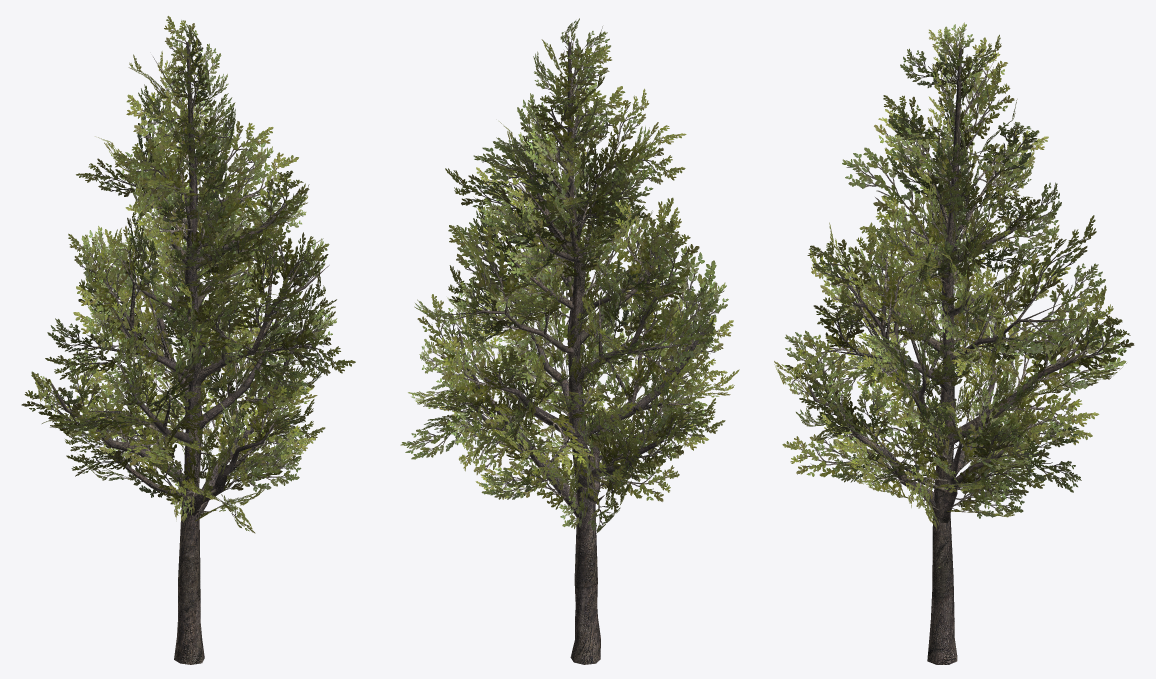
The picture shows the model from 3 angles, left to right: view 1: azimuth 30°, elevation 25°; view 2: azimuth 150°, elevation 25°; view 3: azimuth 270°, elevation 25°; orthographic projection.
Parts seen in each view (by area): view 1: COM_Nature_TreeA_MotionGreenTree01_SM01; view 2: COM_Nature_TreeA_MotionGreenTree01_SM01; view 3: COM_Nature_TreeA_MotionGreenTree01_SM01.
Boxes of the visible parts, x1=… form: COM_Nature_TreeA_MotionGreenTree01_SM01: x1=21, y1=16, x2=355, y2=664; COM_Nature_TreeA_MotionGreenTree01_SM01: x1=400, y1=18, x2=739, y2=664; COM_Nature_TreeA_MotionGreenTree01_SM01: x1=774, y1=22, x2=1134, y2=664.
Size of the model in its own units: 200 by 402 by 210.
2 materials, 2 textured.
